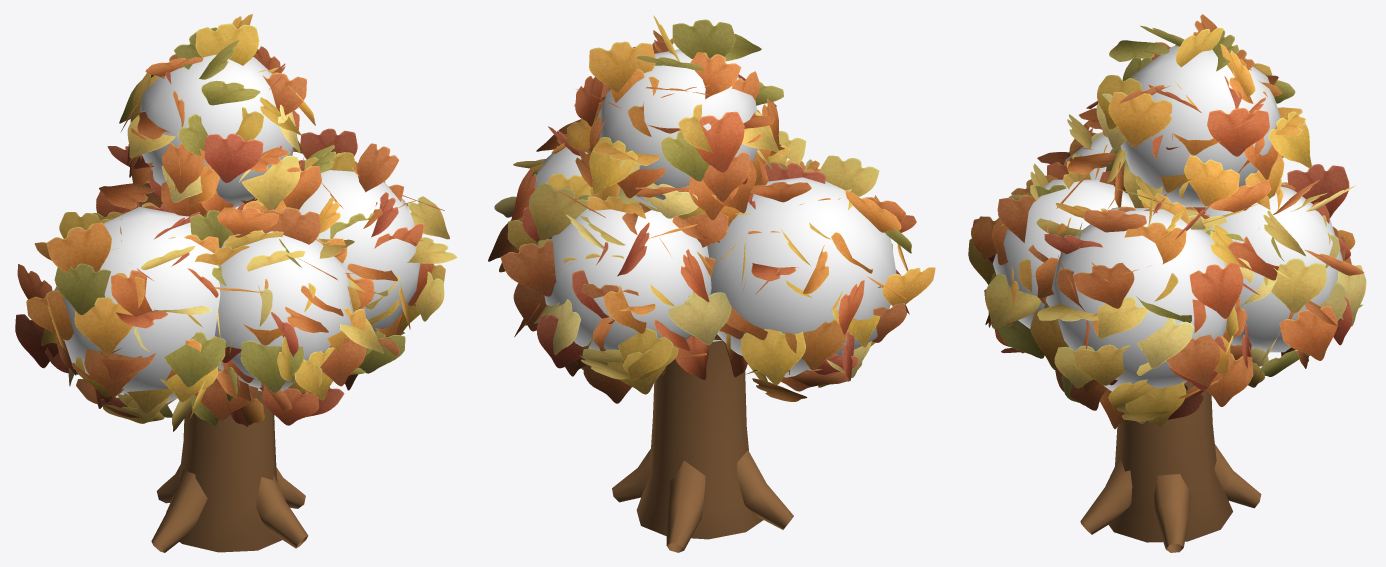
Rendered from tree-tall-autumn.glb.
The picture shows the model from 3 angles, left to right: view 1: azimuth 30°, elevation 25°; view 2: azimuth 150°, elevation 25°; view 3: azimuth 270°, elevation 25°; orthographic projection. The views are drawn at different scales.
Visible parts, largest first — view 1: Crown, Hull, Trunk; view 2: Crown, Hull, Trunk; view 3: Crown, Hull, Trunk.
Boxes of the visible parts, box(x1,y1,x2,y2) form: Crown: box(15, 14, 457, 431); Hull: box(56, 54, 420, 403); Trunk: box(151, 390, 308, 552); Crown: box(488, 15, 935, 403); Hull: box(534, 49, 896, 377); Trunk: box(612, 336, 793, 552); Crown: box(968, 14, 1366, 428); Hull: box(993, 46, 1342, 391); Trunk: box(1080, 381, 1261, 552).
Size of the model in its own units: 3.13 by 3.6 by 2.67.
4 materials, 1 textured.
